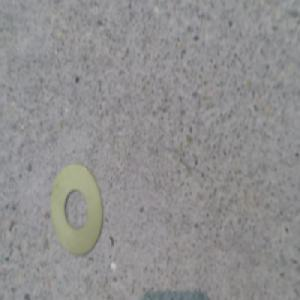Washer: (50, 164, 103, 256)
